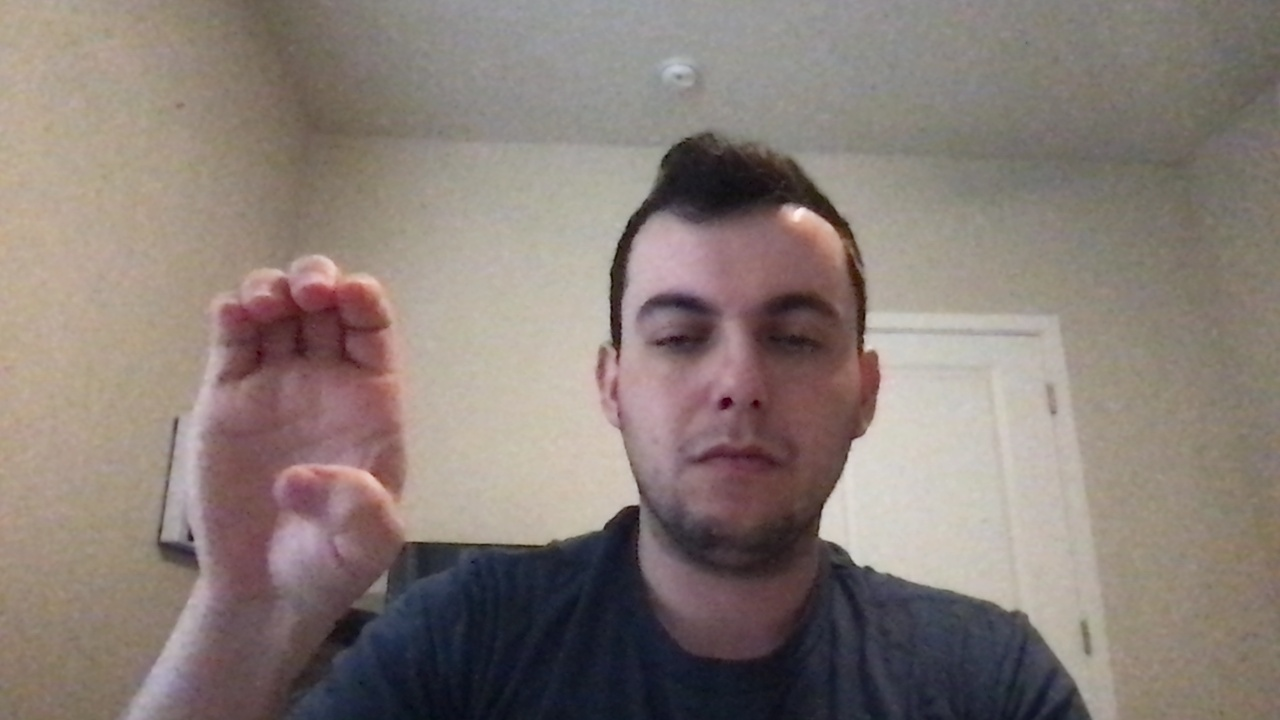e: (85, 239, 490, 617)
